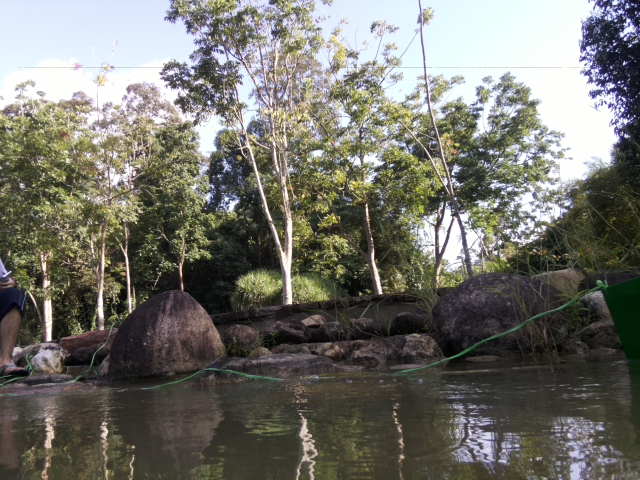obstacle: (601, 274, 640, 360)
